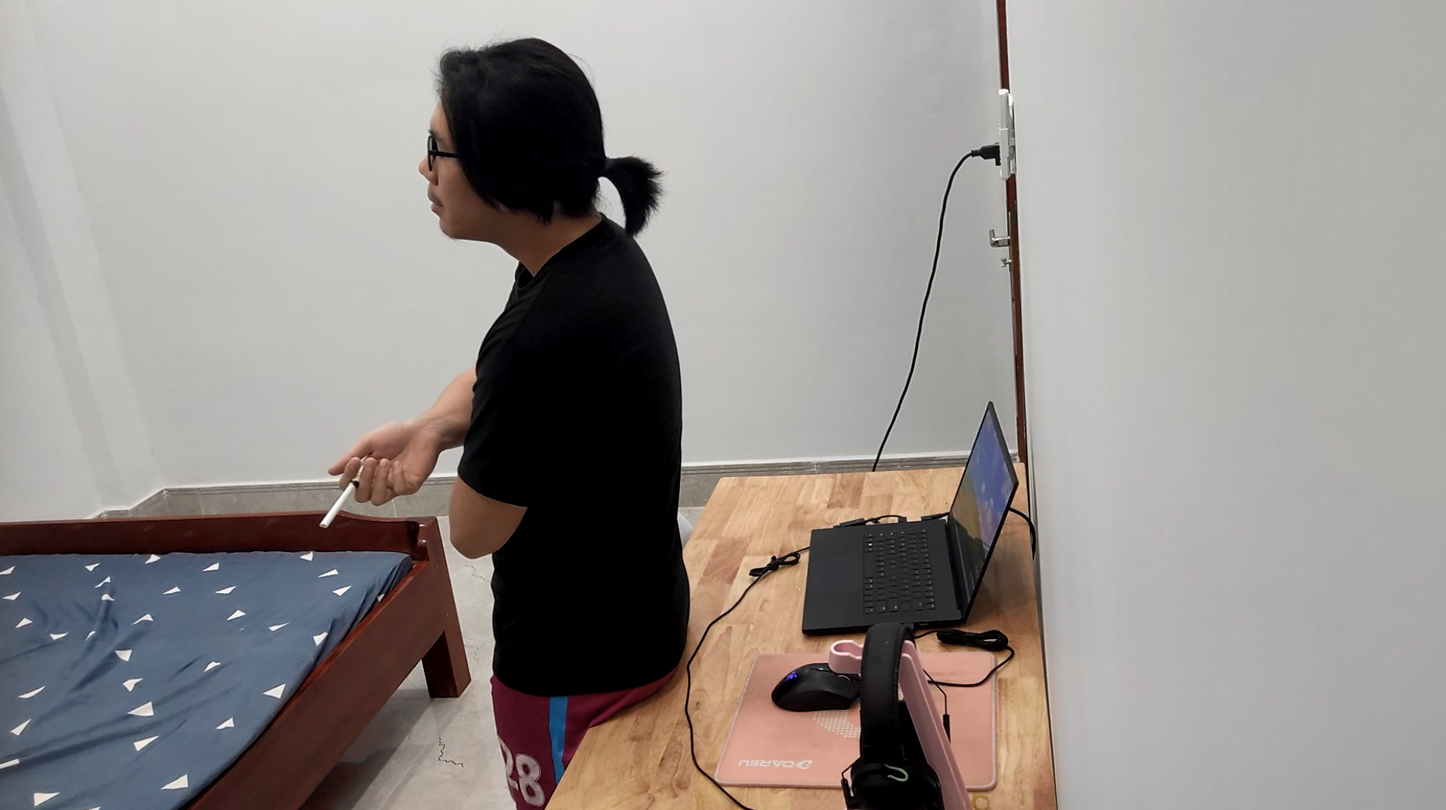cigarette: (319, 476, 360, 530)
person: (342, 16, 703, 810)
